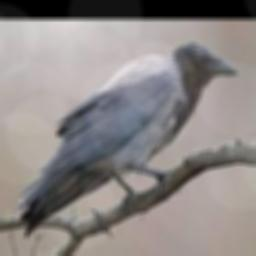Crow: (18, 41, 239, 237)
